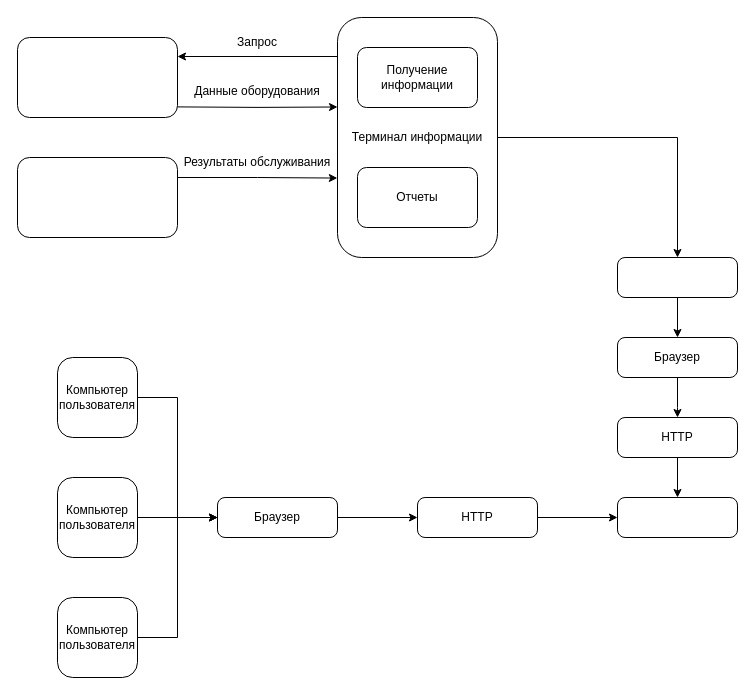
The diagram is 755 pixels wide and 695 high, and some of its shapes have lost their labels. The shapes that lost their labels are listed below. From the top down, each one's centre as x and y in pixels, then its label:
the point at 97,77: БД
the point at 97,197: Система техническим обслуживанием
the point at 677,277: Подключение
the point at 677,517: Интернет
